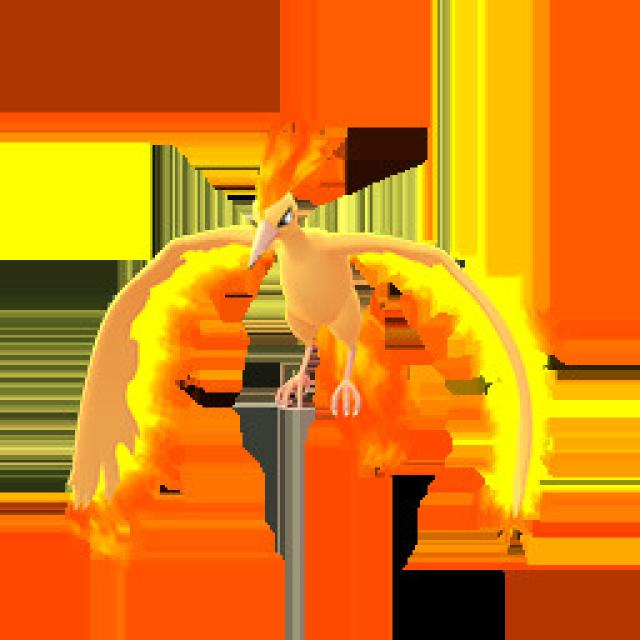Moltres: (137, 166, 490, 470)
